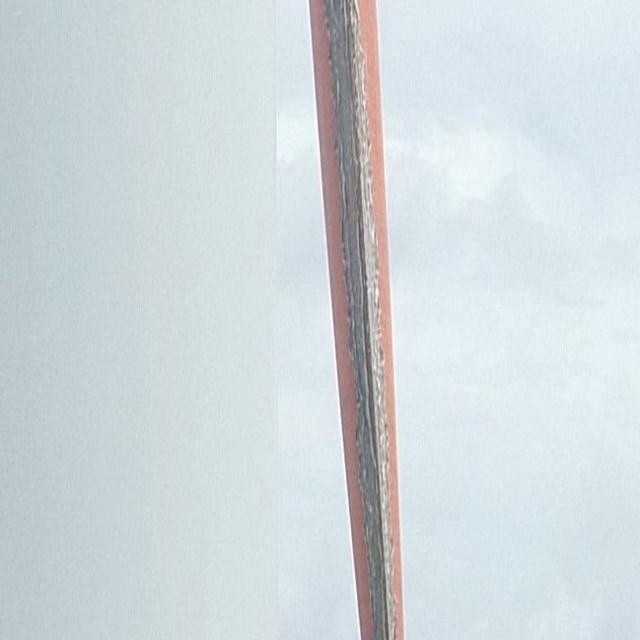EROSION: (344, 187, 395, 636), (332, 10, 376, 185)
